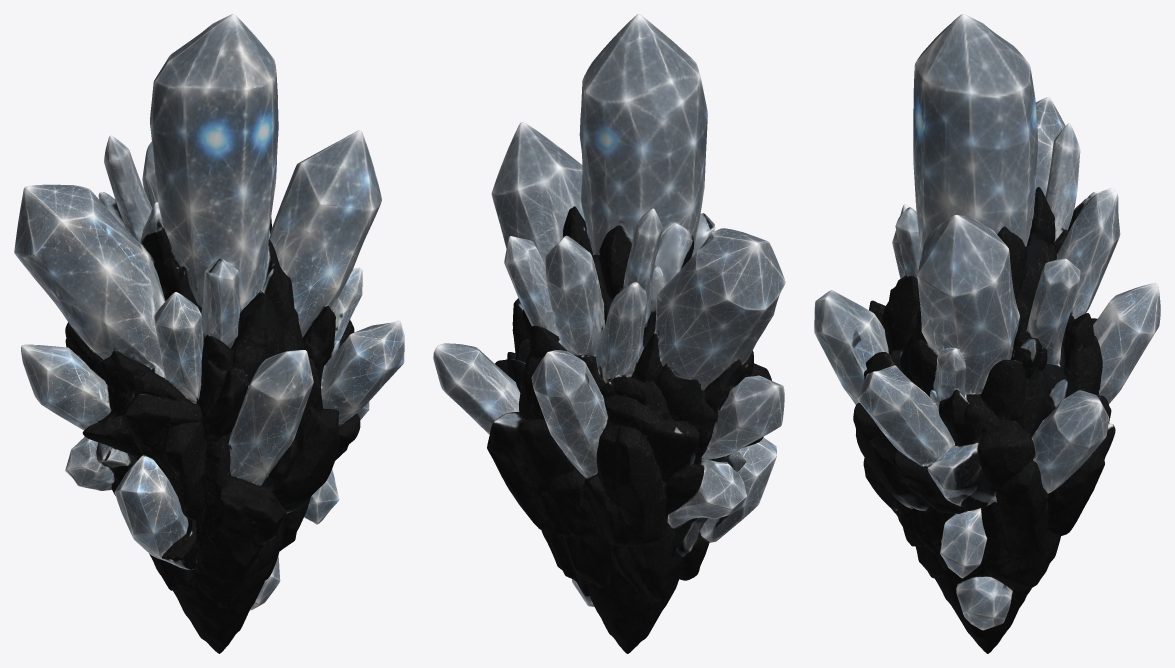
Rendered from pet-crystal.glb.
The picture shows the model from 3 angles, left to right: view 1: azimuth 30°, elevation 25°; view 2: azimuth 150°, elevation 25°; view 3: azimuth 270°, elevation 25°; orthographic projection. The views are drawn at different scales.
Visible parts, largest first — view 1: Mesh_0.002; view 2: Mesh_0.002; view 3: Mesh_0.002.
Part boxes in pixels (x1,y1,x2,y2): Mesh_0.002: (14, 14, 404, 653); Mesh_0.002: (433, 14, 785, 653); Mesh_0.002: (814, 14, 1160, 653).
Size of the model in its own units: 0.0776 by 0.15 by 0.0736.
1 material, 1 textured.
